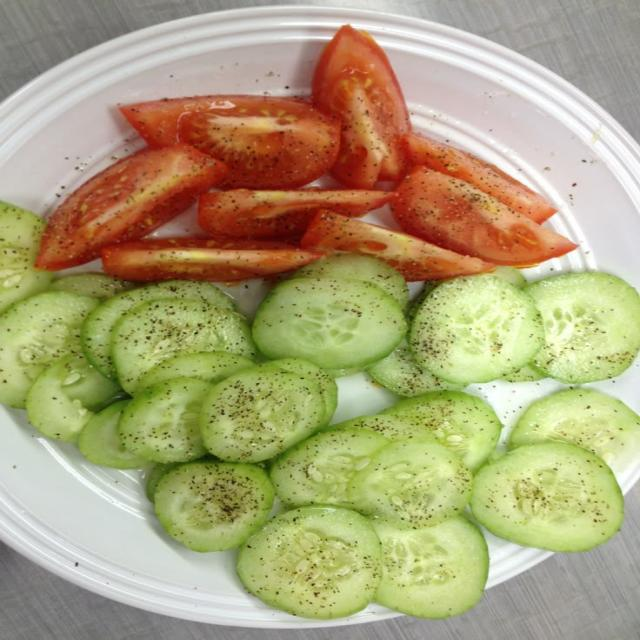cucumber sliced: (471, 443, 624, 551), (237, 506, 380, 619), (408, 275, 544, 384), (82, 281, 234, 377), (254, 278, 406, 369), (111, 298, 254, 394), (526, 273, 639, 384), (200, 366, 326, 462), (374, 516, 489, 618), (0, 291, 98, 408), (154, 460, 274, 552), (347, 441, 473, 527), (508, 389, 639, 471), (382, 391, 502, 471), (270, 427, 389, 506), (26, 355, 119, 442), (119, 378, 210, 462), (292, 252, 408, 307), (0, 201, 52, 313), (367, 341, 464, 397), (77, 400, 148, 469), (269, 358, 338, 426), (138, 351, 254, 388), (51, 273, 138, 300)
sliced tomatoe: (37, 143, 225, 270), (120, 94, 339, 189), (391, 166, 577, 266), (312, 25, 410, 188), (302, 209, 495, 281), (402, 132, 556, 222), (198, 188, 391, 240), (102, 237, 323, 282)
